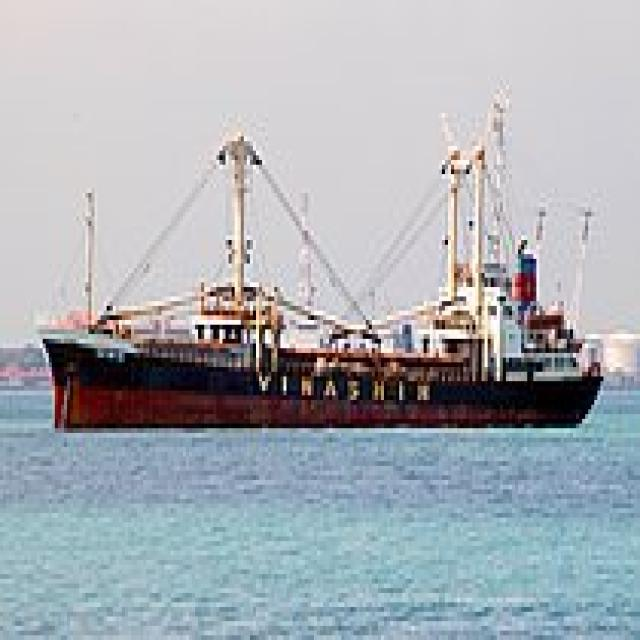Cargo: (34, 85, 604, 433)
